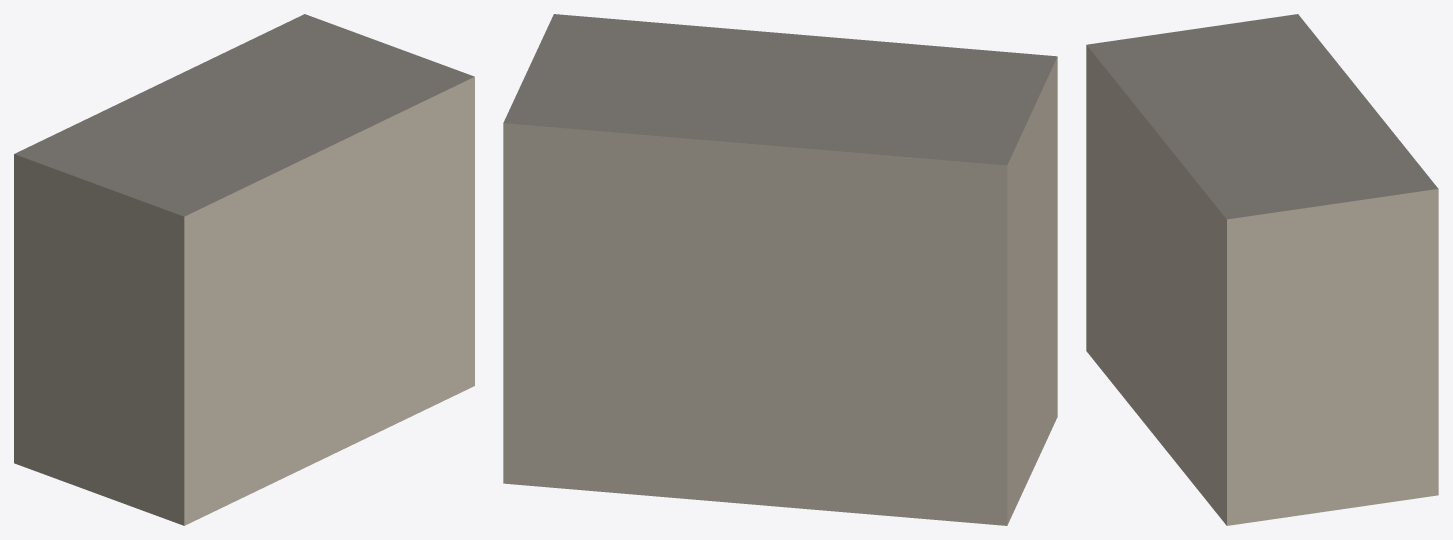
3 views of the same model, side by side, from view 1: azimuth 30°, elevation 25°; view 2: azimuth 150°, elevation 25°; view 3: azimuth 270°, elevation 25° (orthographic). The views are drawn at different scales.
Visible parts, largest first — view 1: HP-w299010090; view 2: HP-w299010090; view 3: HP-w299010090.
Boxes of the visible parts, <box> form: HP-w299010090: <box>14,14,474,525</box>; HP-w299010090: <box>503,14,1057,525</box>; HP-w299010090: <box>1086,14,1438,525</box>.
Size of the model in its own units: 25.88 by 18 by 18.74.
